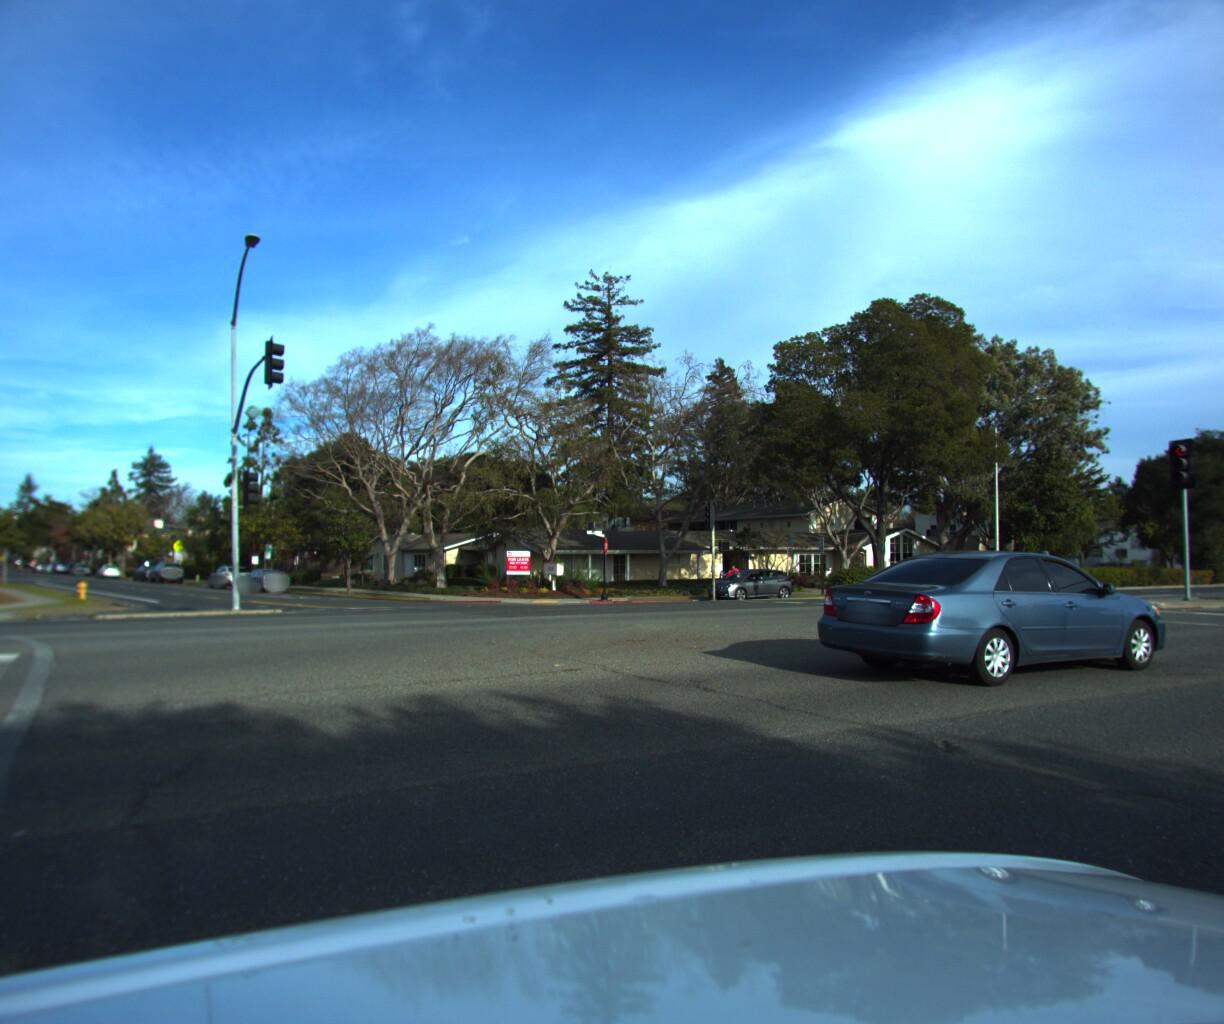car: (800, 540, 1178, 703), (695, 559, 810, 600), (239, 564, 293, 593), (207, 563, 252, 589), (148, 560, 186, 581), (130, 559, 165, 579)
